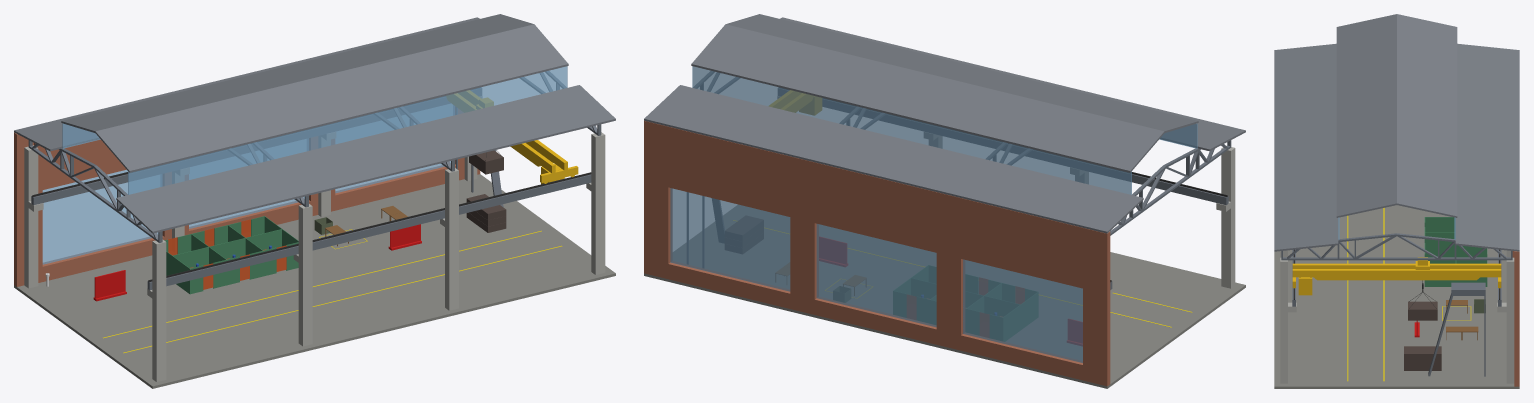
File: planirovka_uchastka.glb
3 renders of one model, left to right at view 1: azimuth 30°, elevation 25°; view 2: azimuth 150°, elevation 25°; view 3: azimuth 270°, elevation 25°, orthographic. The views are drawn at different scales.
Visible parts, largest first — view 1: pol, fonar_krovlya, krovlya_2, fonar_stena_2, osteklenie_1, stena_1, podkran_balka_B, podkran_balka_A, krovlya_1, stena_3, kolonna_B1, kolonna_B4 (+23 smaller); view 2: fonar_krovlya, pol, krovlya_1, stena_3, stena_2, stena_1, fonar_stena_1, osteklenie_3, osteklenie_2, osteklenie_1, prostenok_1, prostenok_2 (+12 smaller); view 3: pol, fonar_krovlya, krovlya_1, krovlya_2, poz11_kran_glavnaya_balka_2, ferma_4, poz11_kran_glavnaya_balka_1, kolonna_A4, kolonna_B4, gabarit_oborudovaniya, prostenok_4, ploshchadka_posadochnaya (+8 smaller).
Boxes of the visible parts, bbox=[...] form: pol: bbox=[14, 174, 615, 388]; fonar_krovlya: bbox=[61, 14, 568, 172]; krovlya_2: bbox=[116, 85, 615, 233]; fonar_stena_2: bbox=[128, 66, 567, 194]; osteklenie_1: bbox=[42, 169, 161, 264]; stena_1: bbox=[34, 139, 171, 282]; podkran_balka_B: bbox=[147, 174, 591, 290]; podkran_balka_A: bbox=[31, 88, 481, 205]; krovlya_1: bbox=[14, 17, 479, 151]; stena_3: bbox=[331, 109, 464, 211]; kolonna_B1: bbox=[152, 239, 166, 381]; kolonna_B4: bbox=[591, 132, 605, 274]; fonar_krovlya: bbox=[691, 14, 1198, 172]; pol: bbox=[644, 205, 1245, 388]; krovlya_1: bbox=[644, 85, 1143, 233]; stena_3: bbox=[668, 126, 790, 308]; stena_2: bbox=[814, 162, 936, 344]; stena_1: bbox=[961, 198, 1082, 380]; fonar_stena_1: bbox=[692, 66, 1131, 194]; osteklenie_3: bbox=[670, 188, 790, 291]; osteklenie_2: bbox=[816, 224, 936, 327]; osteklenie_1: bbox=[963, 259, 1082, 362]; prostenok_1: bbox=[1083, 228, 1110, 386]; prostenok_2: bbox=[936, 192, 963, 350]; pol: bbox=[1274, 205, 1519, 388]; fonar_krovlya: bbox=[1336, 14, 1457, 217]; krovlya_1: bbox=[1455, 43, 1519, 251]; krovlya_2: bbox=[1274, 43, 1338, 251]; poz11_kran_glavnaya_balka_2: bbox=[1292, 269, 1501, 280]; ferma_4: bbox=[1281, 233, 1512, 260]; poz11_kran_glavnaya_balka_1: bbox=[1292, 263, 1501, 268]; kolonna_A4: bbox=[1506, 257, 1514, 383]; kolonna_B4: bbox=[1280, 257, 1287, 383]; gabarit_oborudovaniya: bbox=[1404, 346, 1441, 370]; prostenok_4: bbox=[1514, 251, 1519, 386]; ploshchadka_posadochnaya: bbox=[1451, 282, 1485, 376].
Bounding box in the file's own units: 38000 × 15982 × 19684.
